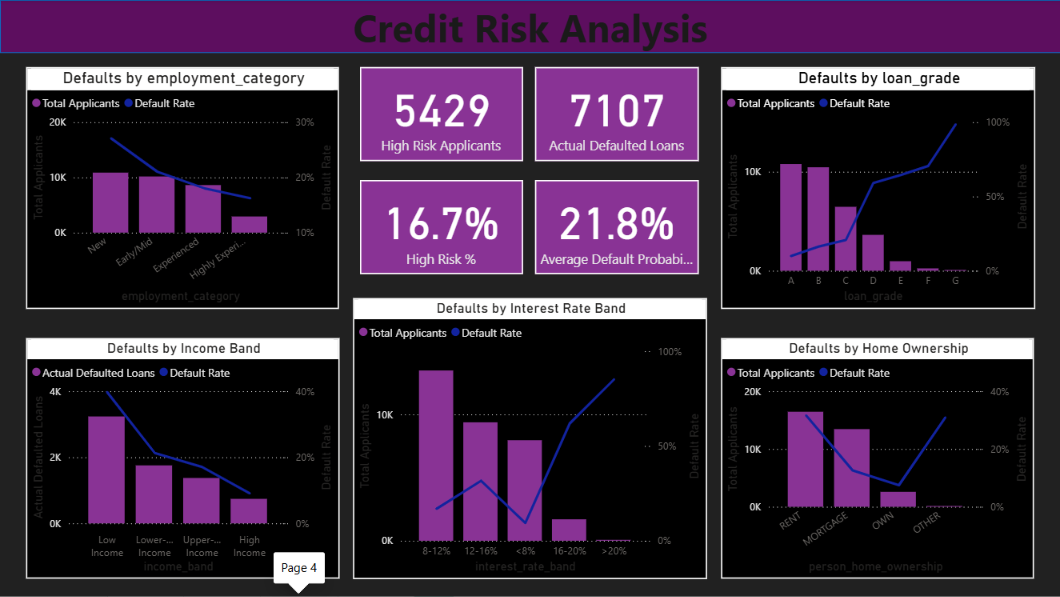

What the dashboard file says about the page in this screenshot:
{"tool":"powerbi","page":{"name":"Page 4","canvas":[1280,720],"ordinal":2},"visuals":[{"type":"card","fields":{"Values":["credit_risk_dashboard.High Risk Applicants"]},"box":[434.3,80.8,196.6,113.4],"z":0},{"type":"lineClusteredColumnComboChart","title":"Defaults by loan_grade","fields":{"Category":["credit_risk_dashboard.loan_grade"],"Y":["credit_risk_dashboard.Total Applicants"],"Y2":["credit_risk_dashboard.Default Rate"]},"box":[869.8,80.8,378.8,292],"z":1000},{"type":"lineClusteredColumnComboChart","title":"Defaults by Interest Rate Band","fields":{"Category":["credit_risk_dashboard.interest_rate_band"],"Y":["credit_risk_dashboard.Total Applicants"],"Y2":["credit_risk_dashboard.Default Rate"]},"box":[425.9,359.5,427.1,339],"z":2000},{"type":"lineClusteredColumnComboChart","title":"Defaults by employment_category","fields":{"Category":["credit_risk_dashboard.employment_category"],"Y2":["credit_risk_dashboard.Default Rate"],"Y":["credit_risk_dashboard.Total Applicants"]},"box":[31.4,80.8,377.6,292],"z":3000},{"type":"lineClusteredColumnComboChart","title":"Defaults by Income Band","fields":{"Category":["credit_risk_dashboard.income_band"],"Y2":["credit_risk_dashboard.Default Rate"],"Y":["credit_risk_dashboard.Actual Defaulted Loans"]},"box":[31.4,407.8,378,290.8],"z":4000},{"type":"lineClusteredColumnComboChart","title":"Defaults by Home Ownership","fields":{"Category":["credit_risk_dashboard.person_home_ownership"],"Y2":["credit_risk_dashboard.Default Rate"],"Y":["credit_risk_dashboard.Total Applicants"]},"box":[869.8,407.8,377.6,290.8],"z":5000},{"type":"card","fields":{"Values":["credit_risk_dashboard.High Risk %"]},"box":[434.3,217.2,196.6,113.4],"z":6000},{"type":"card","fields":{"Values":["credit_risk_dashboard.Actual Defaulted Loans"]},"box":[645.4,80.8,197.9,113.4],"z":7000},{"type":"card","fields":{"Values":["credit_risk_dashboard.Average Default Probability"]},"box":[645.4,217.2,197.9,113.4],"z":8000},{"type":"shape","box":[0,0,1280,63.9],"z":9000}]}

Visuals, with their boxes in screenshot pixels (x1, y1, x2, y2), scaled from the page's 1280x720 canvas onto the 1060x597 screenshot:
card - credit_risk_dashboard.High Risk Applicants: BBox(360, 67, 522, 161)
"Defaults by loan_grade" lineClusteredColumnComboChart: BBox(720, 67, 1034, 309)
"Defaults by Interest Rate Band" lineClusteredColumnComboChart: BBox(353, 298, 706, 579)
"Defaults by employment_category" lineClusteredColumnComboChart: BBox(26, 67, 339, 309)
"Defaults by Income Band" lineClusteredColumnComboChart: BBox(26, 338, 339, 579)
"Defaults by Home Ownership" lineClusteredColumnComboChart: BBox(720, 338, 1033, 579)
card - credit_risk_dashboard.High Risk %: BBox(360, 180, 522, 274)
card - credit_risk_dashboard.Actual Defaulted Loans: BBox(534, 67, 698, 161)
card - credit_risk_dashboard.Average Default Probability: BBox(534, 180, 698, 274)
shape: BBox(0, 0, 1059, 53)
